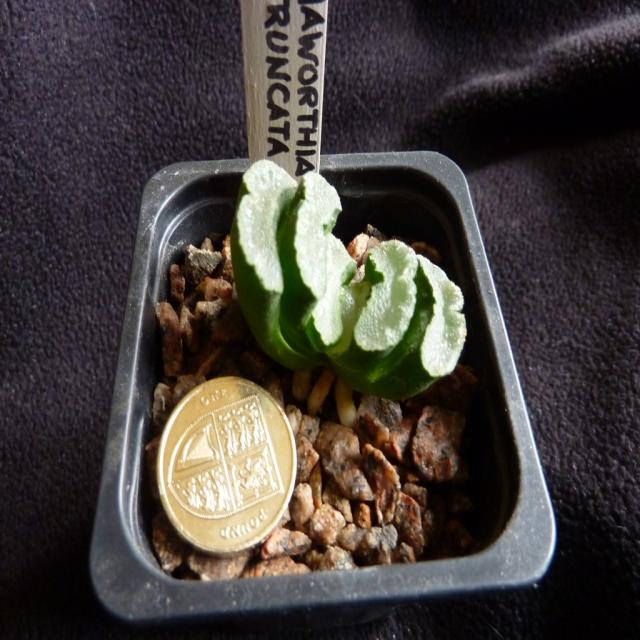Coin: (158, 373, 298, 559)
